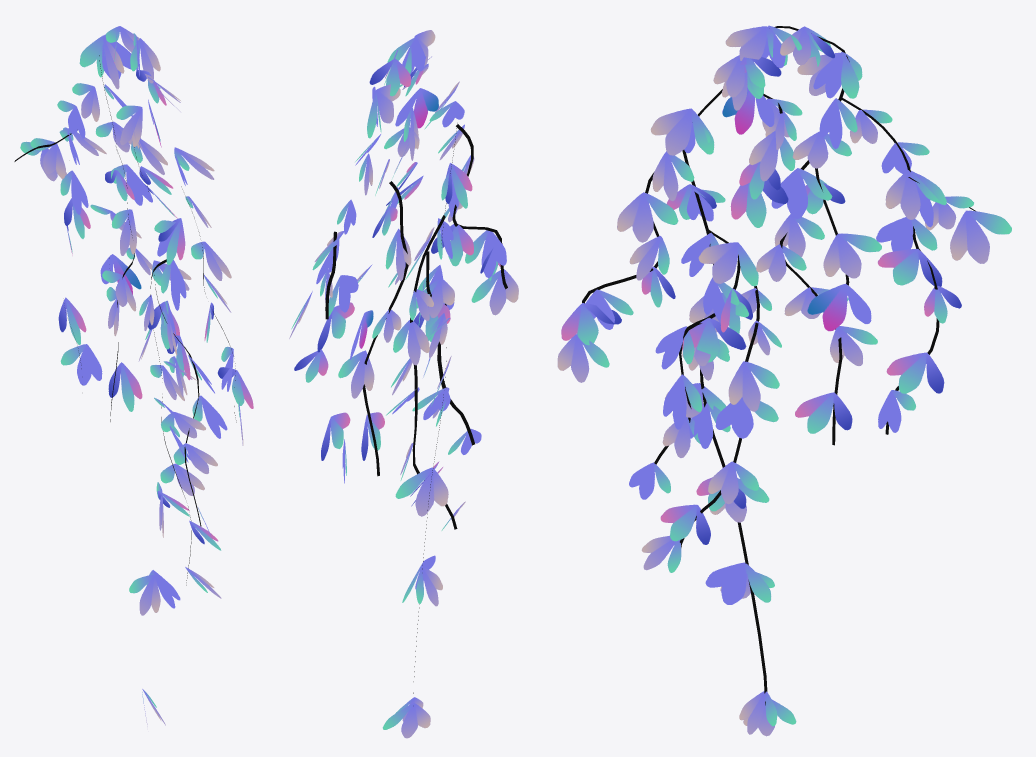
File: SM_ivy_l_straight_A.FBX
The picture shows the model from 3 angles, left to right: view 1: azimuth 30°, elevation 25°; view 2: azimuth 150°, elevation 25°; view 3: azimuth 270°, elevation 25°; orthographic projection. The views are drawn at different scales.
Visible parts, largest first — view 1: S_M_ivy_l_straight_A; view 2: S_M_ivy_l_straight_A; view 3: S_M_ivy_l_straight_A.
Boxes of the visible parts, x1=… form: S_M_ivy_l_straight_A: x1=14, y1=26, x2=253, y2=726; S_M_ivy_l_straight_A: x1=289, y1=30, x2=518, y2=738; S_M_ivy_l_straight_A: x1=557, y1=25, x2=1011, y2=736.
Bounding box in the file's own units: 51.87 × 566 × 332.
Materials: 2 (1 with a texture image).
